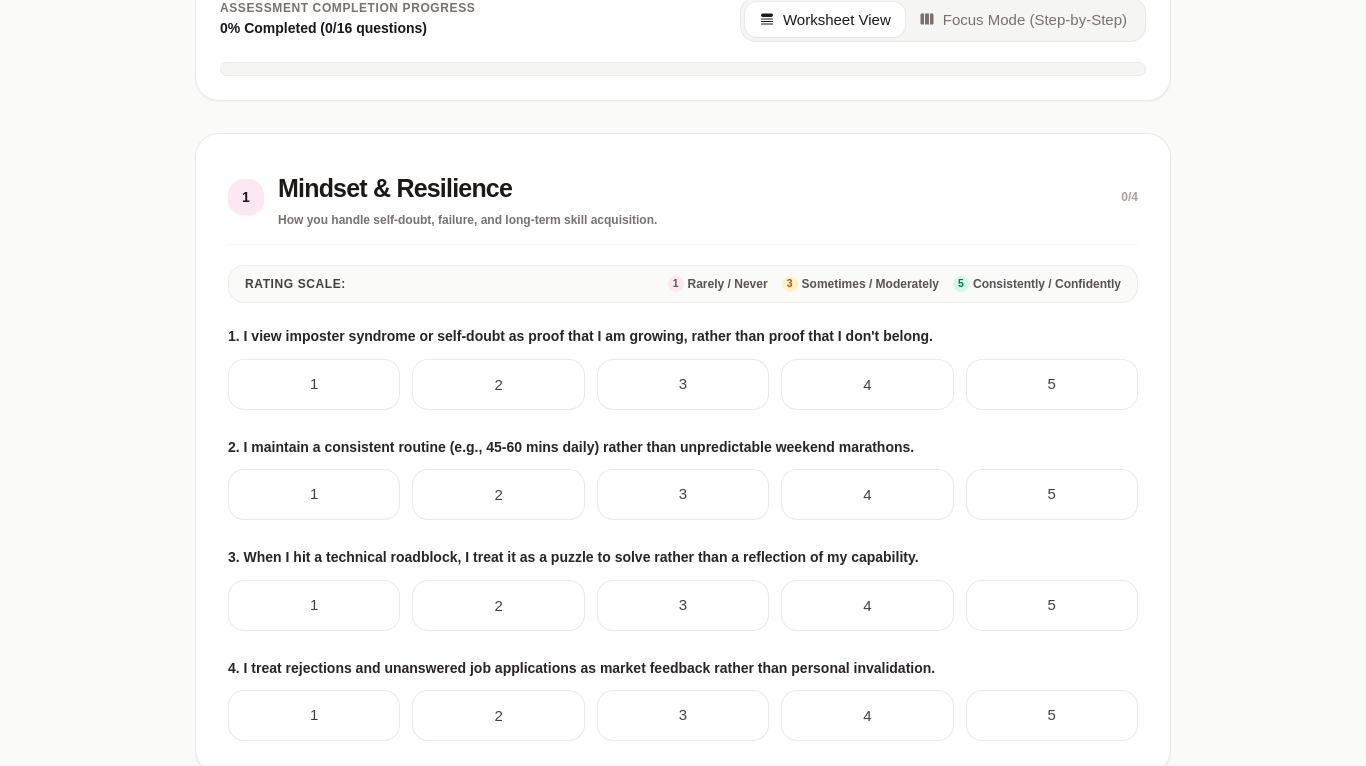
Test case: AssessmentPage › renders auto-matched resources tailored to growth areas
This screenshot has width=1366, height=766.
(page scrolled)
// Answer first question to trigger matching
Click the radio button named "5 - Always".
click(1052, 384)  # box [966,358,1138,410]
(page scrolled)
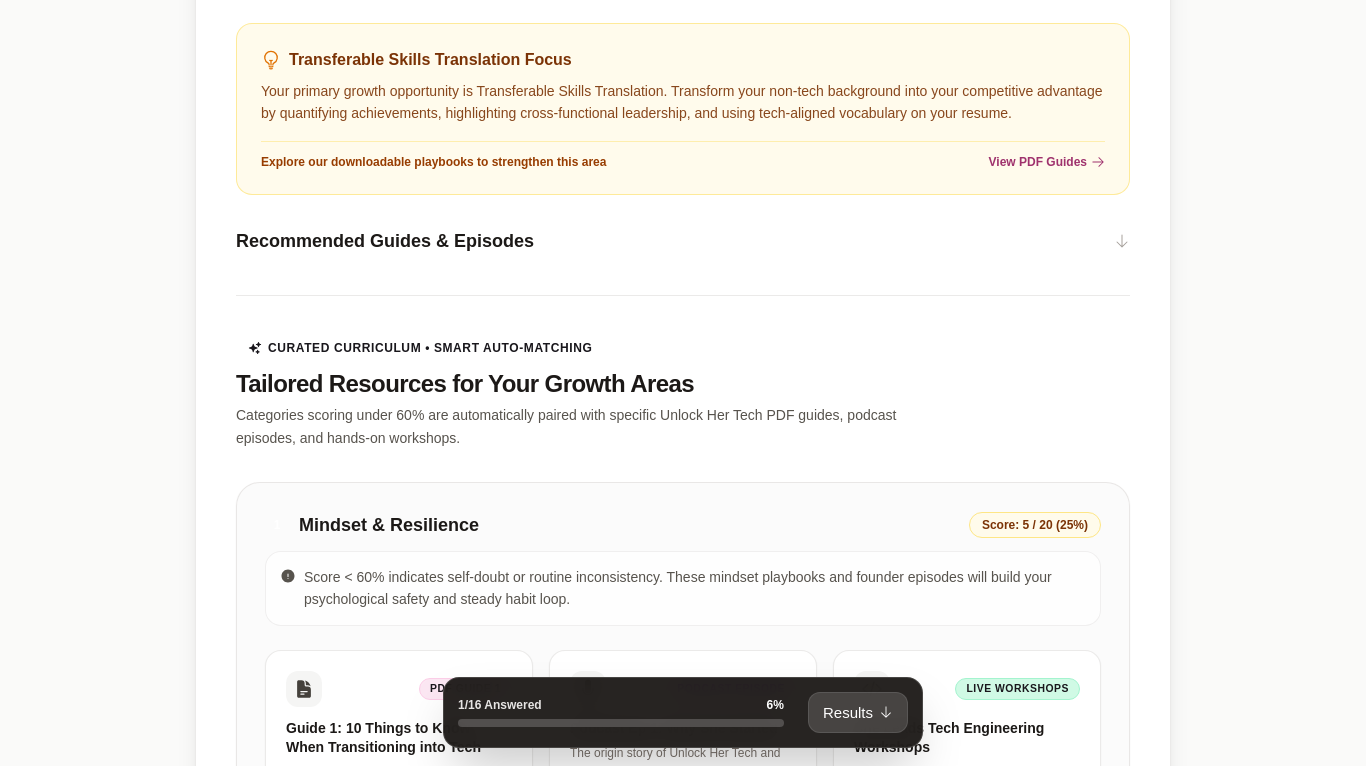
Now the heading "Tailored Resources for Your Growth Areas" is shown, box [236,370,694,397]
